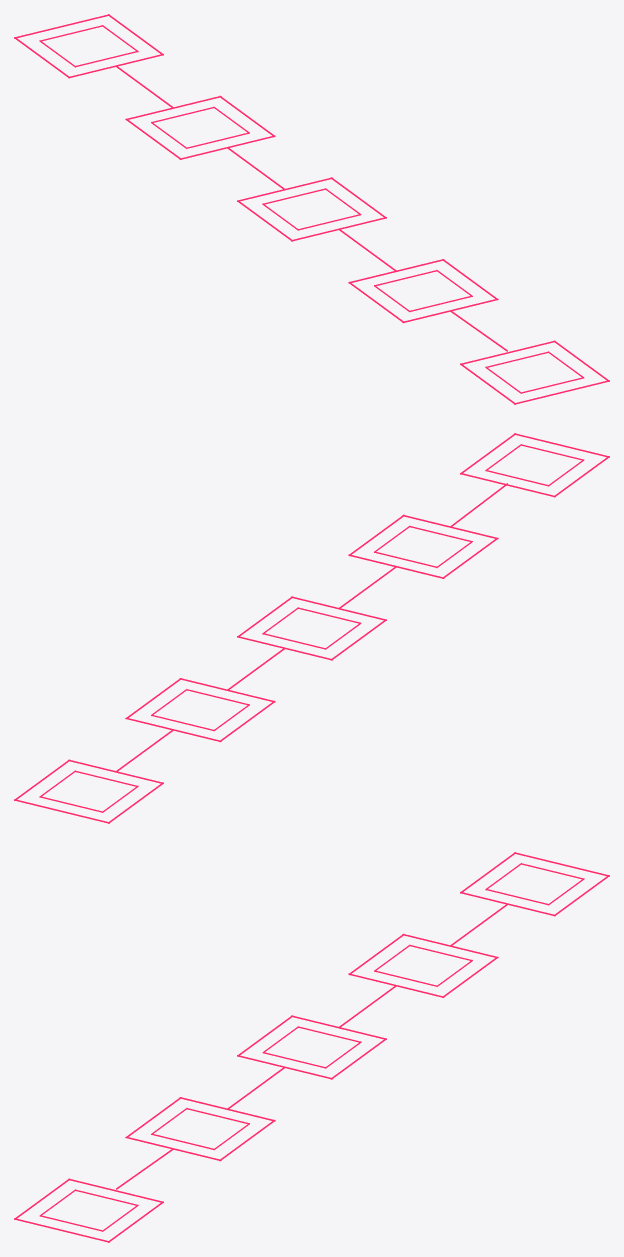
File: PLAN.fbx
3 renders of one model, top to bottom at view 1: azimuth 30°, elevation 25°; view 2: azimuth 150°, elevation 25°; view 3: azimuth 330°, elevation 25°, orthographic.
Parts seen in each view (by area): view 1: Cube.139, Cube.710, Cube.358, Cube.286, Cube.138; view 2: Cube.139, Cube.358, Cube.710, Cube.286, Cube.382, Cube.138; view 3: Cube.139, Cube.710, Cube.358, Cube.286, Cube.138, Cube.382.
Part boxes in pixels (left/top/right/bottom): Cube.139: left=14, top=14, right=173, bottom=107; Cube.710: left=125, top=95, right=284, bottom=189; Cube.358: left=237, top=177, right=396, bottom=270; Cube.286: left=460, top=340, right=609, bottom=404; Cube.138: left=348, top=259, right=498, bottom=323; Cube.139: left=14, top=729, right=173, bottom=823; Cube.358: left=237, top=566, right=396, bottom=660; Cube.710: left=125, top=648, right=285, bottom=742; Cube.286: left=460, top=433, right=609, bottom=497; Cube.382: left=348, top=483, right=507, bottom=578; Cube.138: left=349, top=515, right=498, bottom=578; Cube.139: left=450, top=852, right=609, bottom=945; Cube.710: left=339, top=933, right=498, bottom=1027; Cube.358: left=227, top=1015, right=386, bottom=1108; Cube.286: left=14, top=1178, right=163, bottom=1242; Cube.138: left=125, top=1097, right=275, bottom=1161; Cube.382: left=116, top=1097, right=275, bottom=1189.
Size of the model in its own units: 19540 by 500 by 177539.
